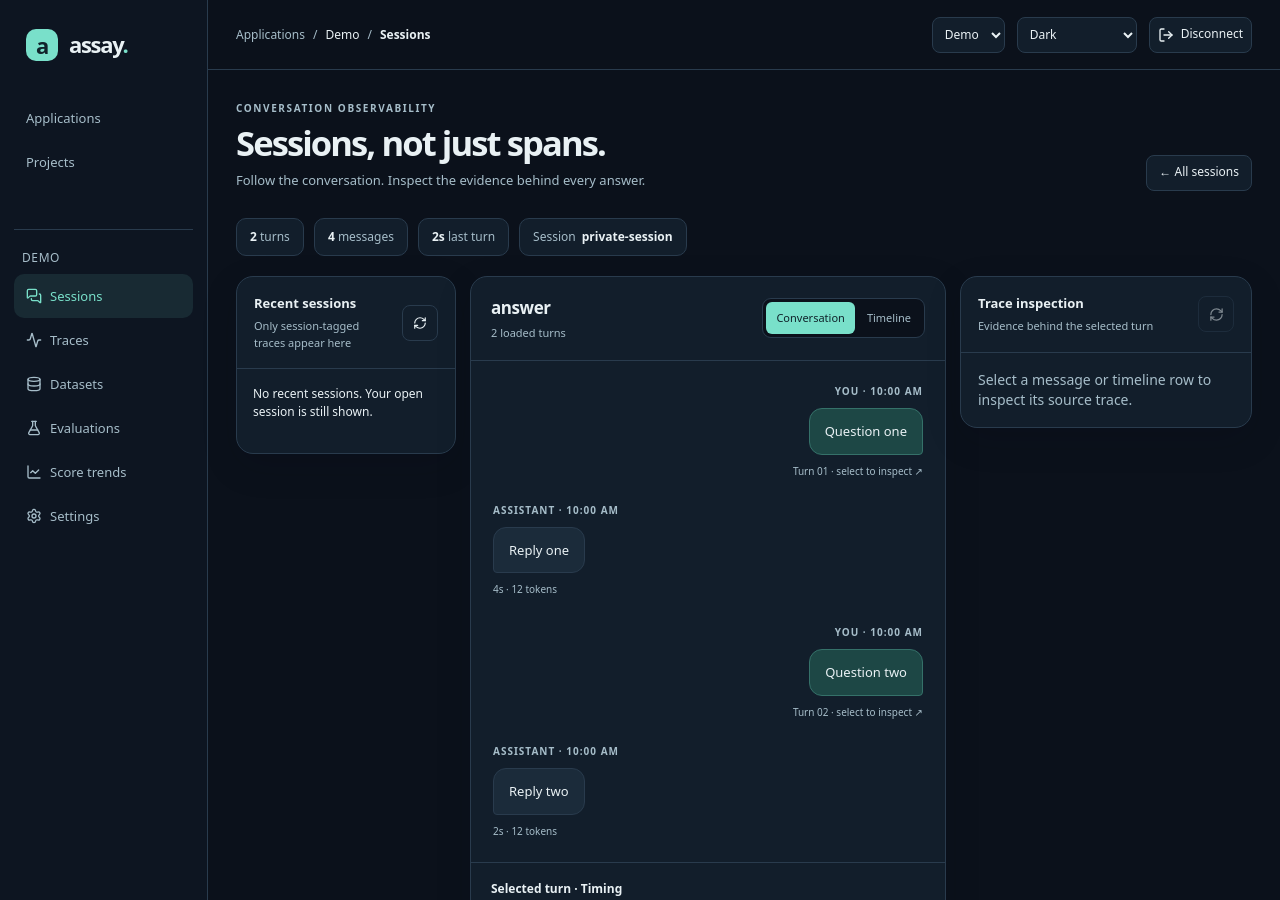
it: root turns exclude child history while timeline selects a trace
The image size is (1280, 900).
Check: the text "Question one" is shown, box [825,421,907,442]
Check: the text "Reply two" is shown, box [509,781,569,802]
Step 1. Click the button "Timeline" → (889, 318), box [857,302,921,334]
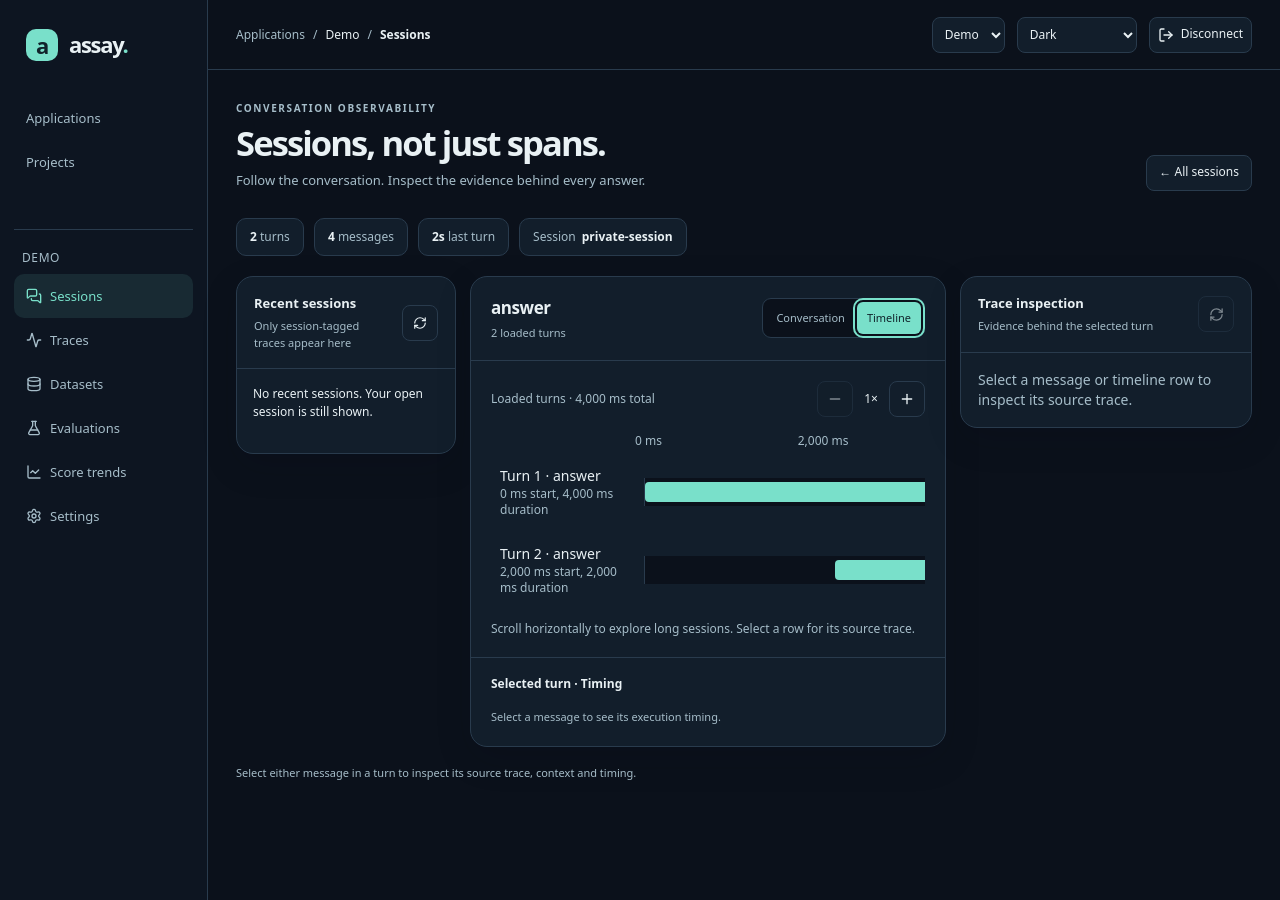
Step 2. Click the button "Turn 2 · answer 2,000 ms start, 2,000 ms duration" → (763, 570), box [491,535,1035,605]
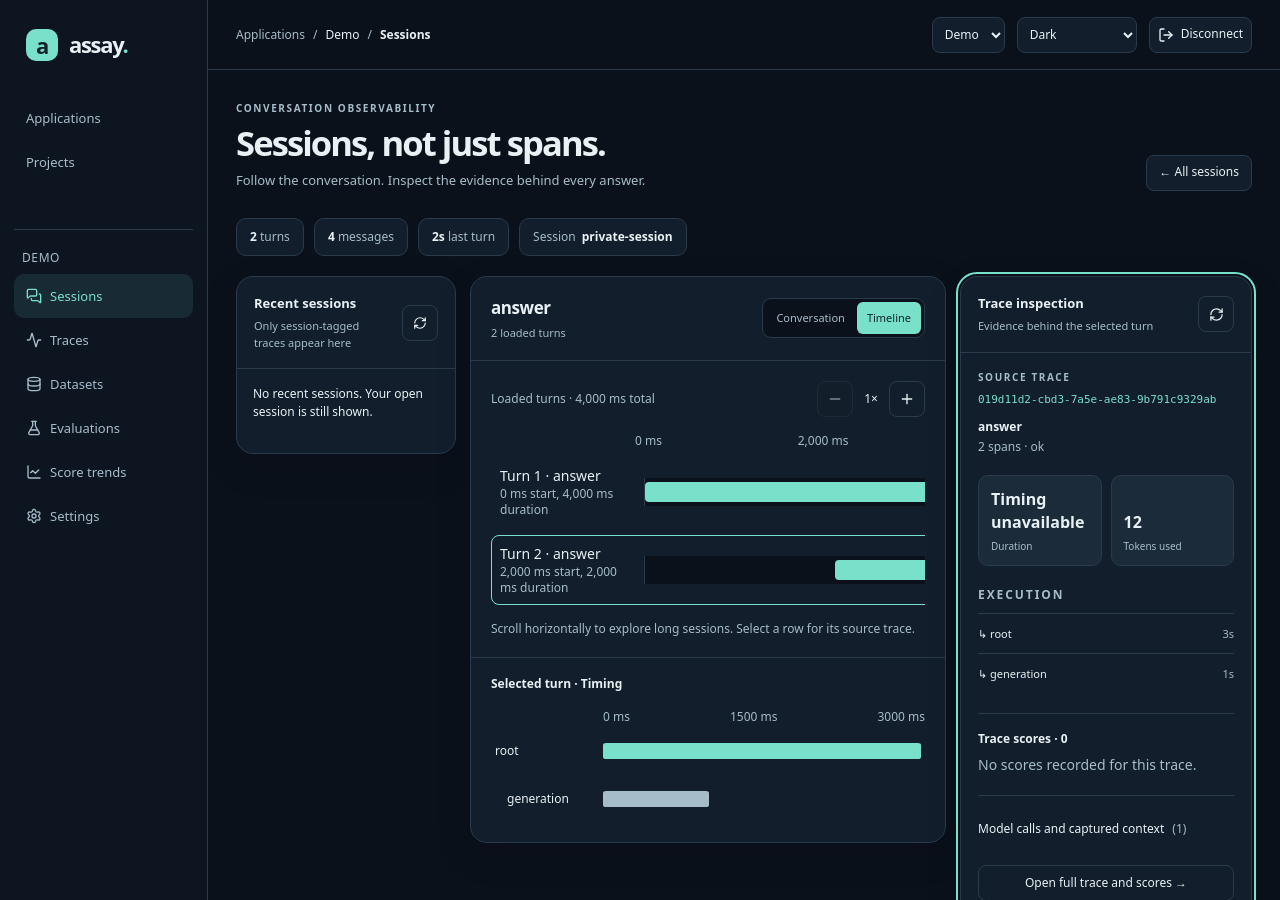
Check: the element named "Span timing" is shown, box [491,709,925,821]
